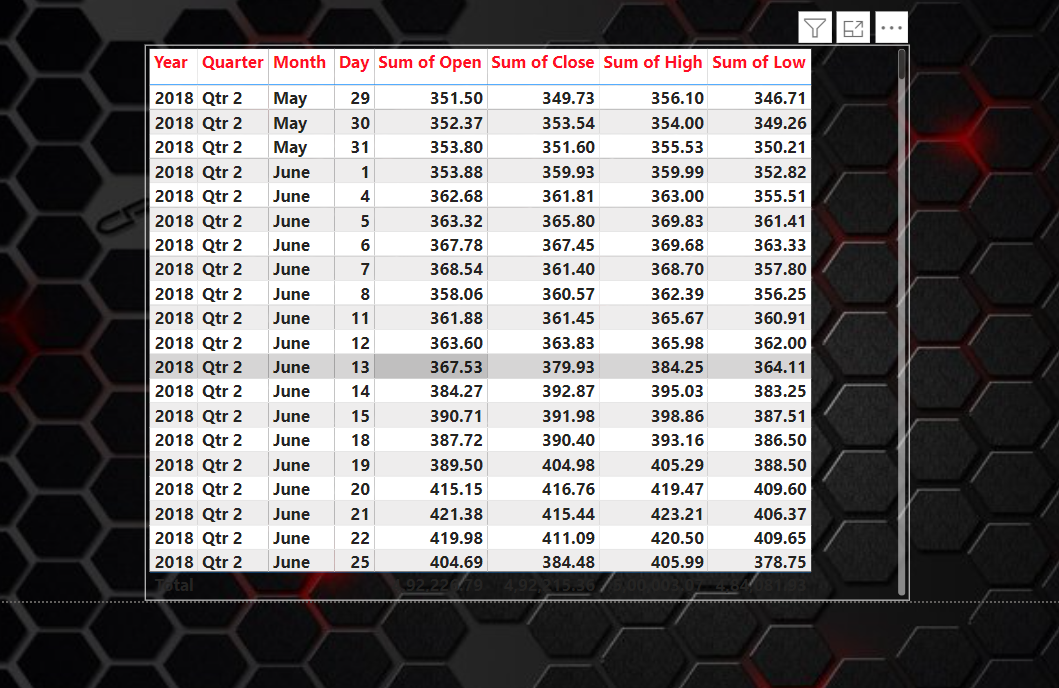

What the dashboard file says about the page in this screenshot:
{"tool":"powerbi","page":{"name":"Page 3","canvas":[1280,720],"ordinal":2},"visuals":[{"type":"tableEx","fields":{"Values":["Table 1 (Sheet1).Date.Variation.Date Hierarchy.Year","Table 1 (Sheet1).Date.Variation.Date Hierarchy.Quarter","Table 1 (Sheet1).Date.Variation.Date Hierarchy.Month","Table 1 (Sheet1).Date.Variation.Date Hierarchy.Day","Sum(Table 1 (Sheet1).Open)","Sum(Table 1 (Sheet1).Close)","Sum(Table 1 (Sheet1).High)","Sum(Table 1 (Sheet1).Low)"]},"box":[186.6,61.7,907,658.7],"z":0}]}

Visuals, with their boxes on the page's 1280x720 design canvas (x1, y1, x2, y2). These are canvas units, not pixel positions in the 1059x688 screenshot, which may show the page scaled, cropped or inside an application window:
tableEx - Table 1 (Sheet1).Date.Variation.Date Hierarchy.Year x Table 1 (Sheet1).Date.Variation.Date Hierarchy.Quarter: crop(187, 62, 1094, 720)
